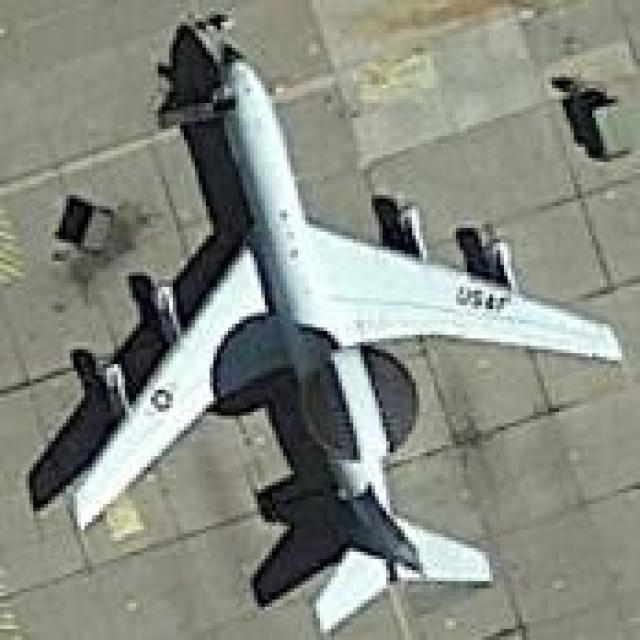E-3_TopDown: (22, 11, 625, 625)
